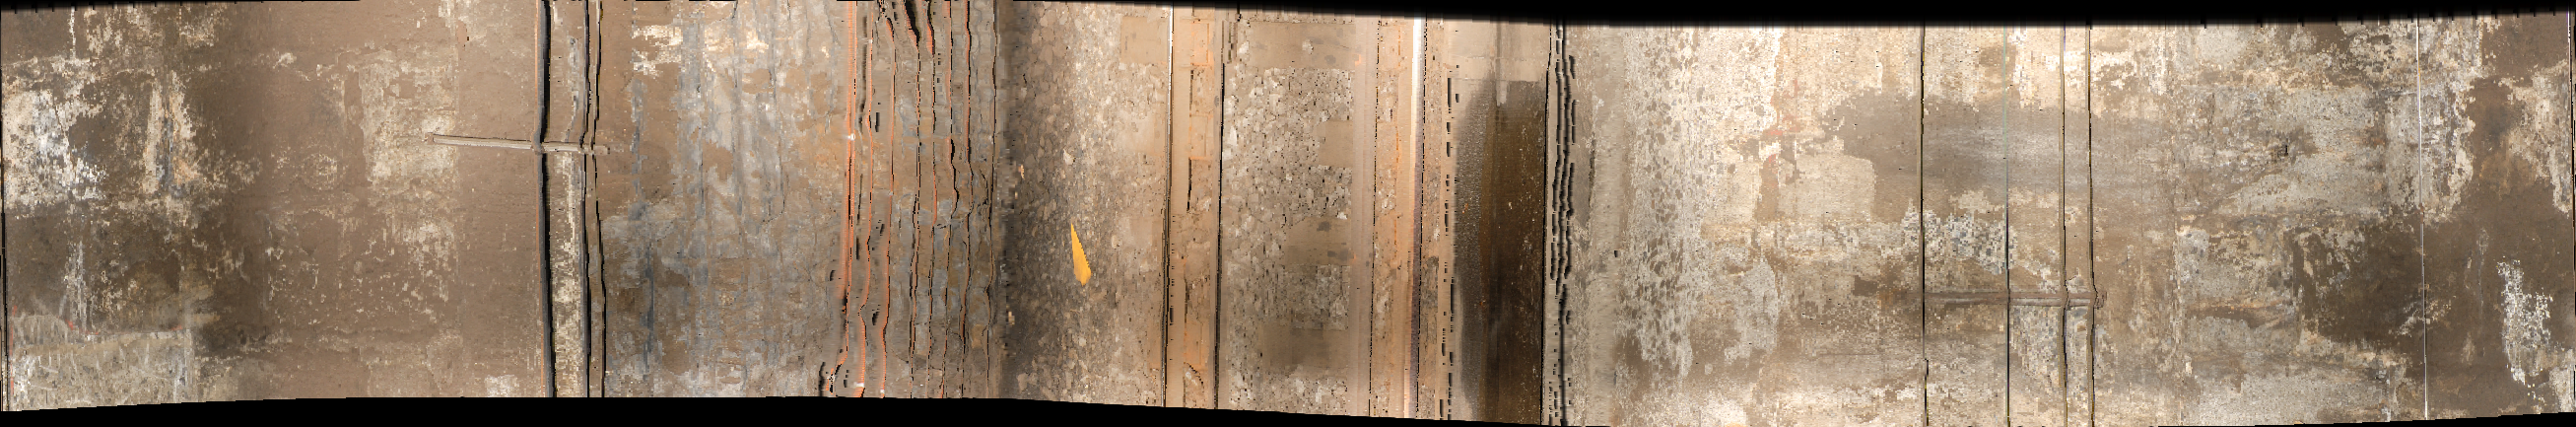pipes: (833, 2, 1010, 427), (1996, 21, 2106, 427), (534, 2, 618, 419), (1912, 25, 1937, 427)
tracks: (1162, 5, 1452, 427)
